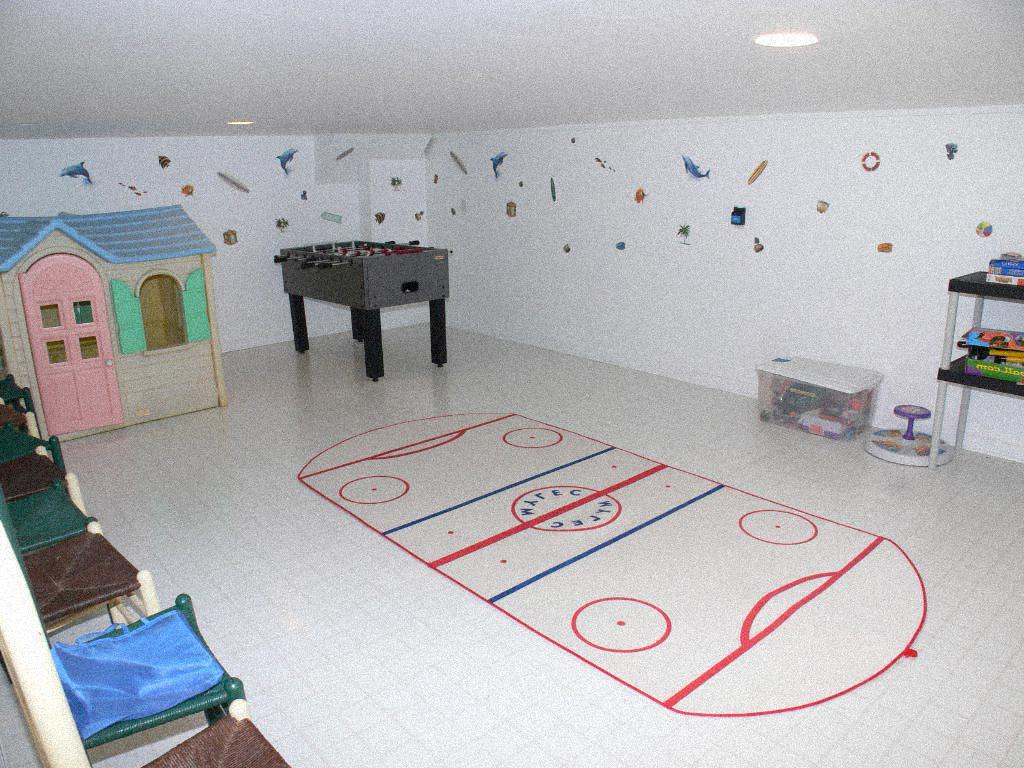Otro Obstaculo: (20, 210, 213, 434), (747, 358, 880, 430), (853, 401, 947, 473)
